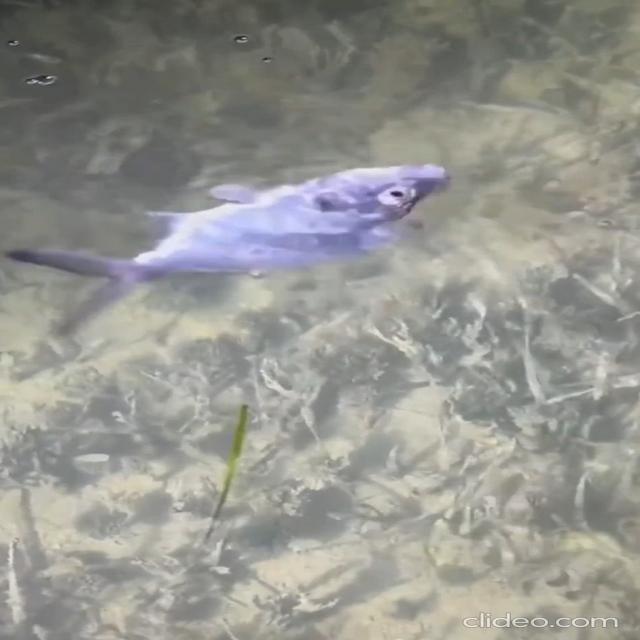fish: (15, 162, 572, 318)
